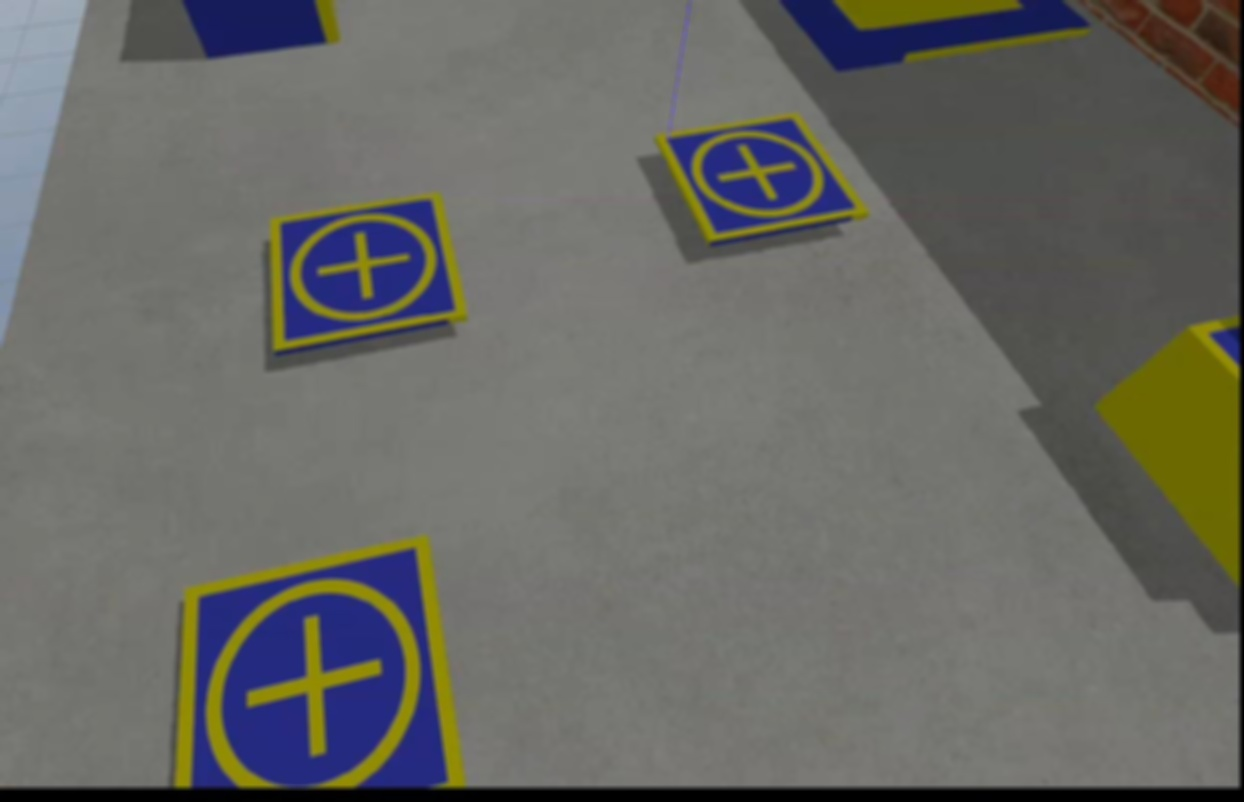large_base: (779, 1, 1090, 69)
small_base: (169, 534, 462, 792), (268, 197, 473, 360), (655, 114, 868, 245)
